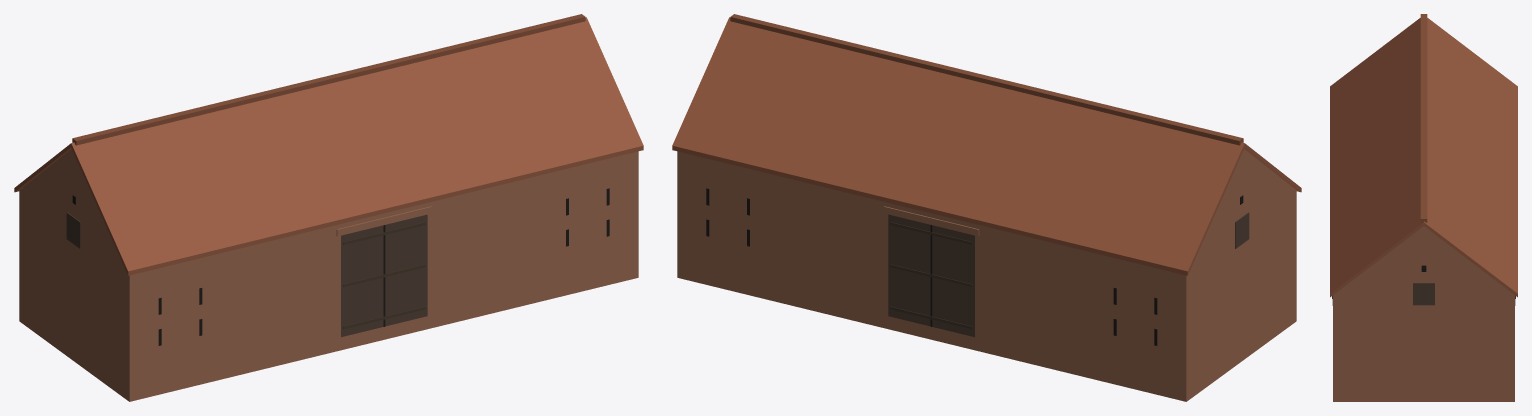
The model's file is context.farm.brick_barn.glb.
3 renders of one model, left to right at view 1: azimuth 30°, elevation 25°; view 2: azimuth 150°, elevation 25°; view 3: azimuth 270°, elevation 25°, orthographic. The views are drawn at different scales.
Visible parts, largest first — view 1: main__tile_954, main__brick_965, main__timber_543, main__tile_853, main__timber_433, main__paint_221; view 2: main__tile_954, main__brick_965, main__timber_543, main__tile_853, main__timber_433, main__paint_221; view 3: main__tile_954, main__brick_965, main__tile_853, main__timber_543.
Part boxes in pixels (box(x1,y1,x2,y2)): main__tile_954: box(14, 17, 643, 275); main__brick_965: box(19, 149, 638, 401); main__timber_543: box(66, 212, 427, 337); main__tile_853: box(72, 14, 585, 145); main__timber_433: box(343, 222, 425, 329); main__paint_221: box(72, 188, 609, 345); main__tile_954: box(672, 17, 1301, 275); main__brick_965: box(677, 149, 1296, 401); main__timber_543: box(888, 212, 1249, 337); main__tile_853: box(730, 14, 1243, 145); main__timber_433: box(890, 222, 972, 329); main__paint_221: box(706, 188, 1243, 345); main__tile_954: box(1330, 18, 1517, 297); main__brick_965: box(1333, 226, 1514, 401); main__tile_853: box(1420, 14, 1427, 222); main__timber_543: box(1332, 283, 1515, 305).
Bounding box in the file's own units: 24.3 × 10 × 9.3.
